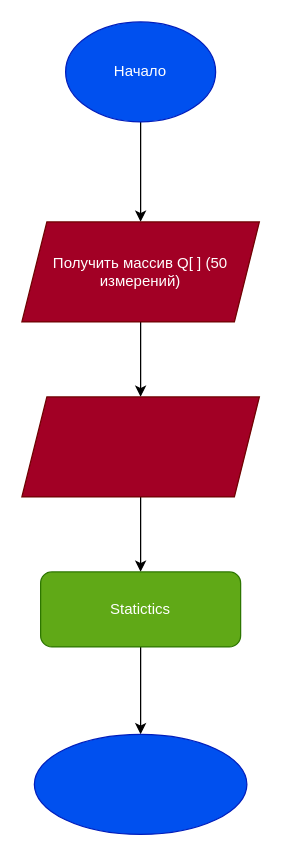
Some shapes in this 281 by 856 pixel diagram are drawn without their labels. The shapes that lost their labels are listed below. From the top down, each one's centre as x and y in pixels, then its label:
the point at 140,446: Выбрать участок Q[16...27]
the point at 140,783: Конец
